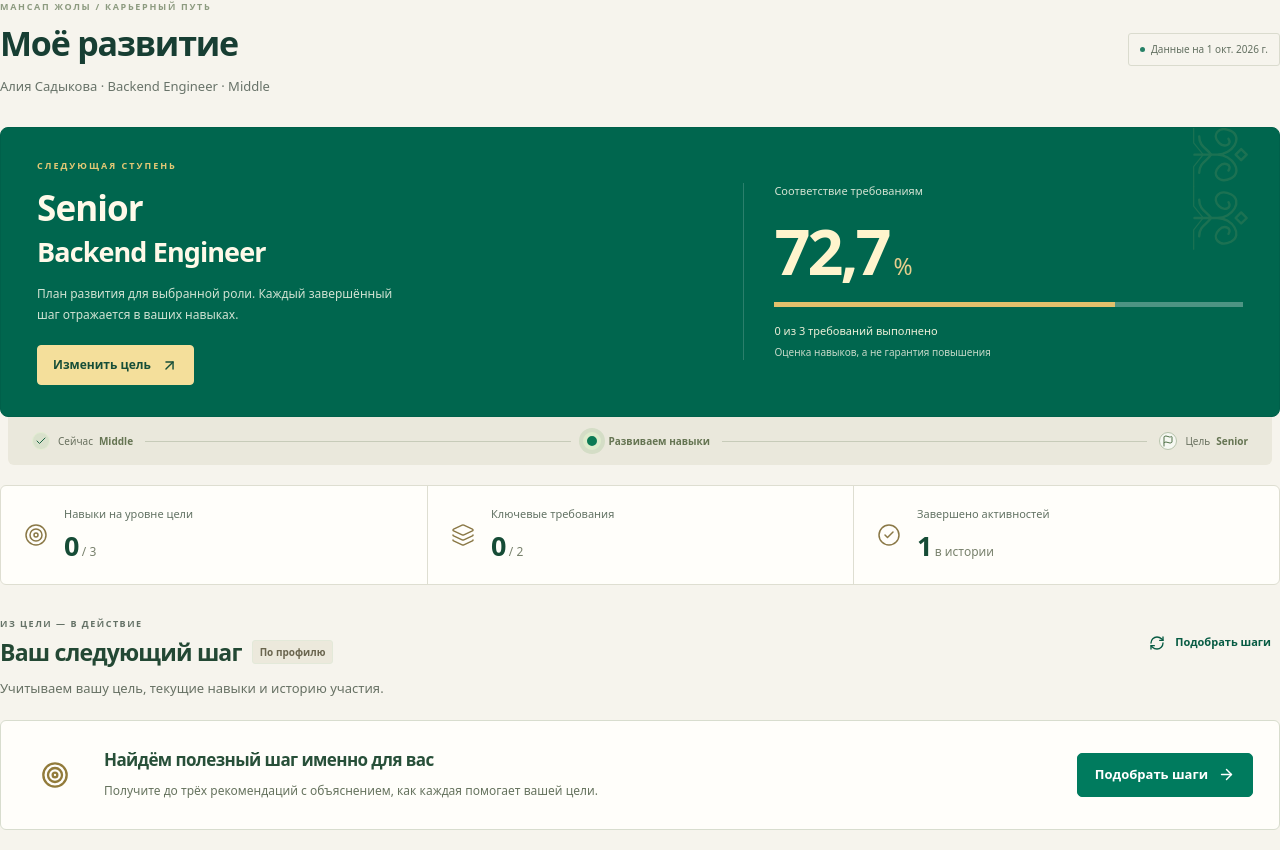
Test: employee workflow › keeps the dialog editable after a definite rejection instead of replaying a rejected command
Click the button "Подобрать шаги" in the row of "По профилю" at {"x": 1210, "y": 643}, box [1140,621,1279,665]
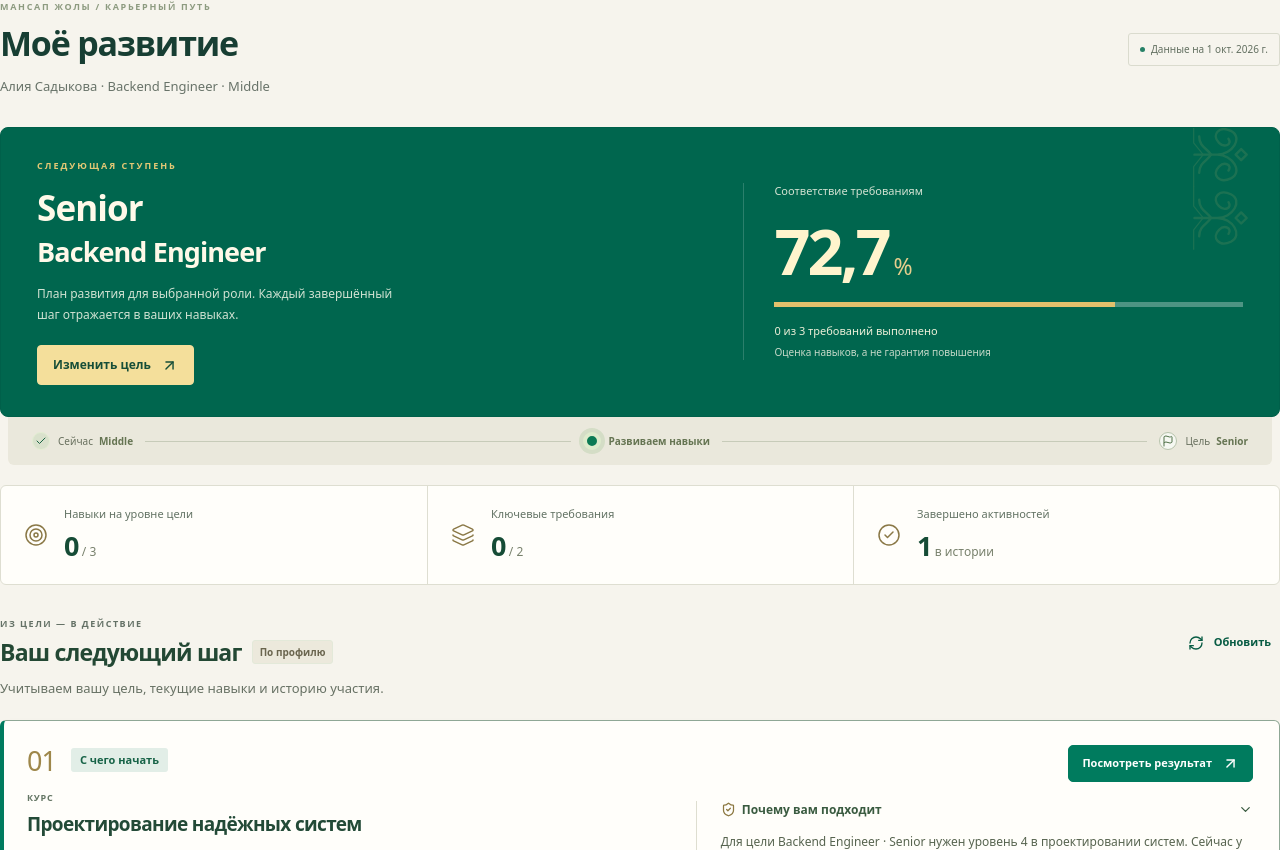
Click the button "Посмотреть результат" at {"x": 1161, "y": 763}, box [1068,744,1253,782]
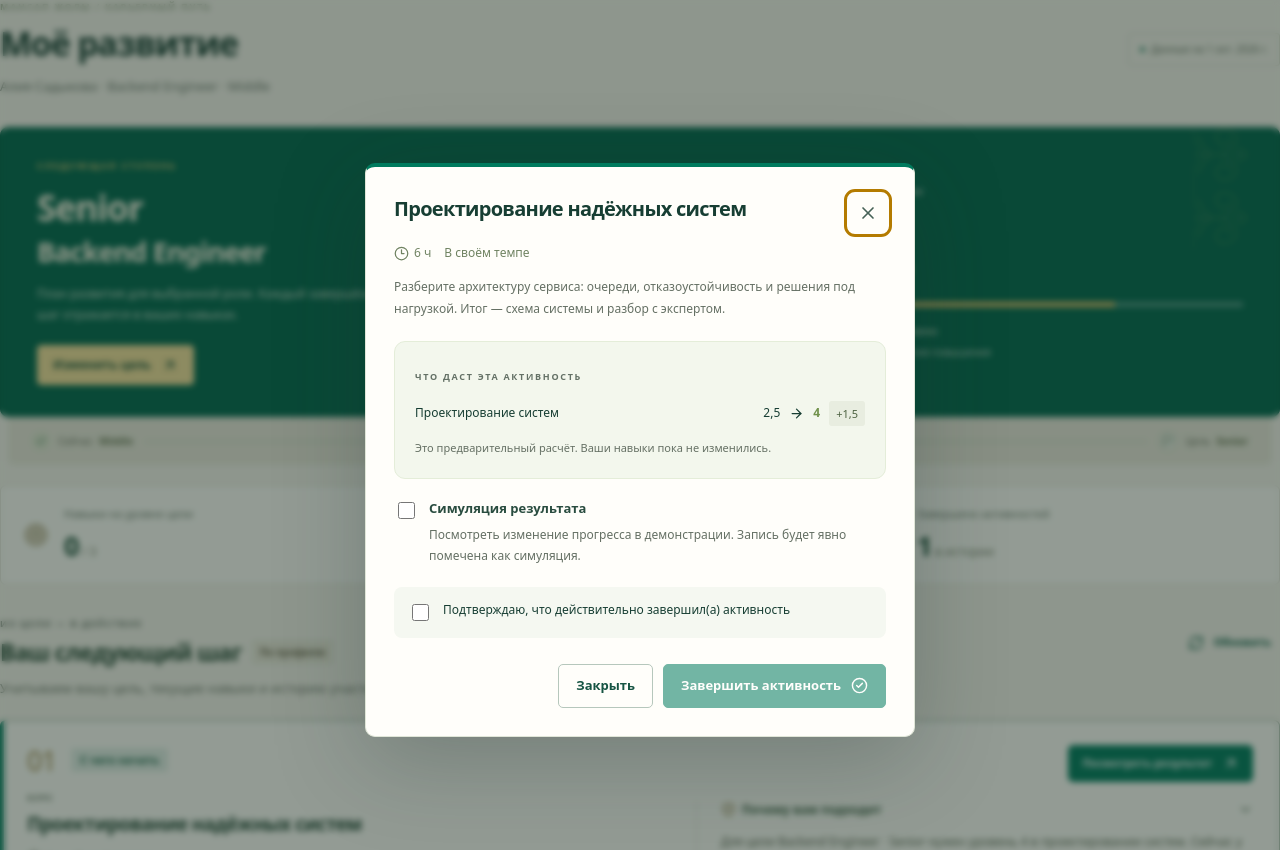
Expected: the text "Это предварительный расчёт. Ваши навыки пока не изменились." is shown, [415,440,771,455]
Click the checkbox labelled "Подтверждаю, что действительно завершил(а) активность" at {"x": 420, "y": 612}, box [412,604,429,621]
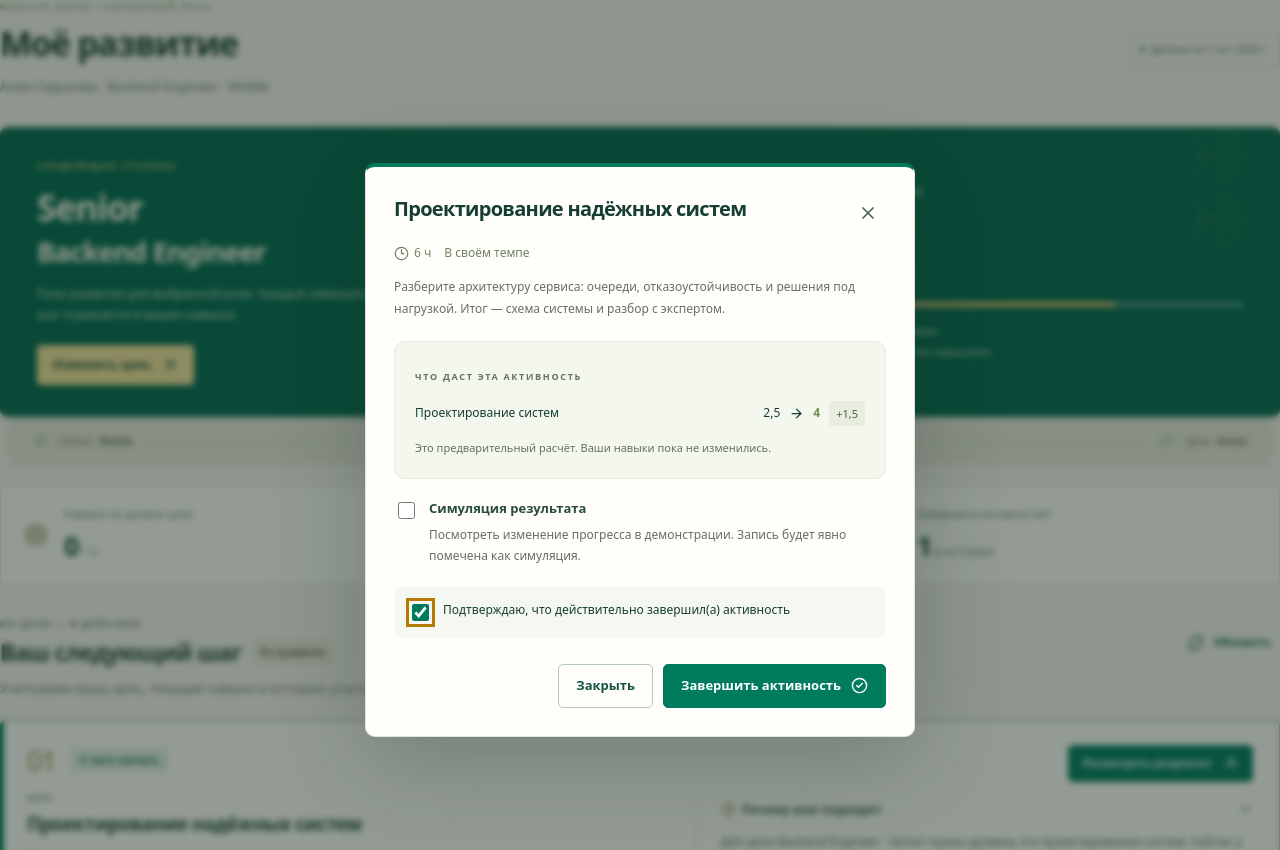
Click the button "Завершить активность" at {"x": 774, "y": 686}, box [663,664,886,708]
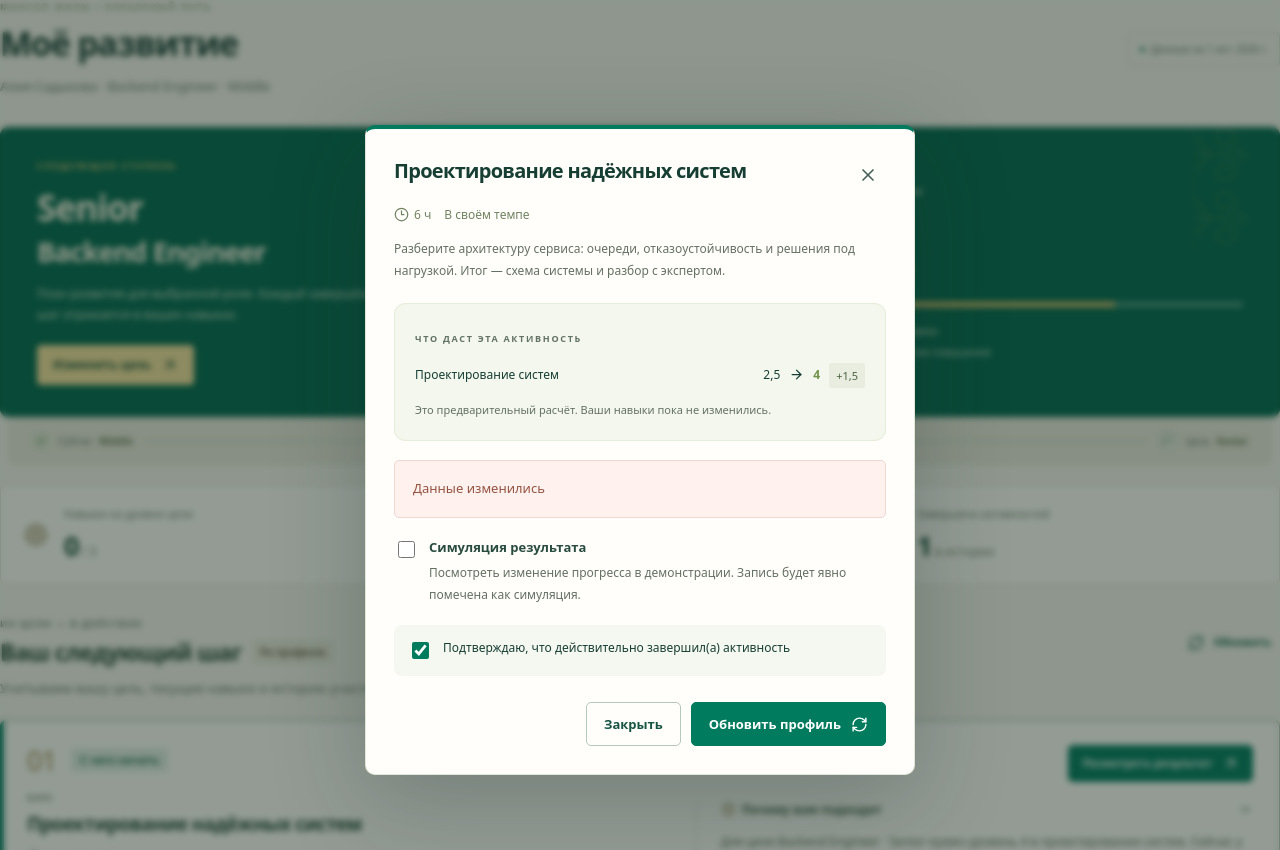
Expected: the checkbox labelled "Подтверждаю, что действительно завершил(а) активность" is enabled, [412,642,429,659]
Expected: the message reads "Данные изменились", [413,479,545,497]
